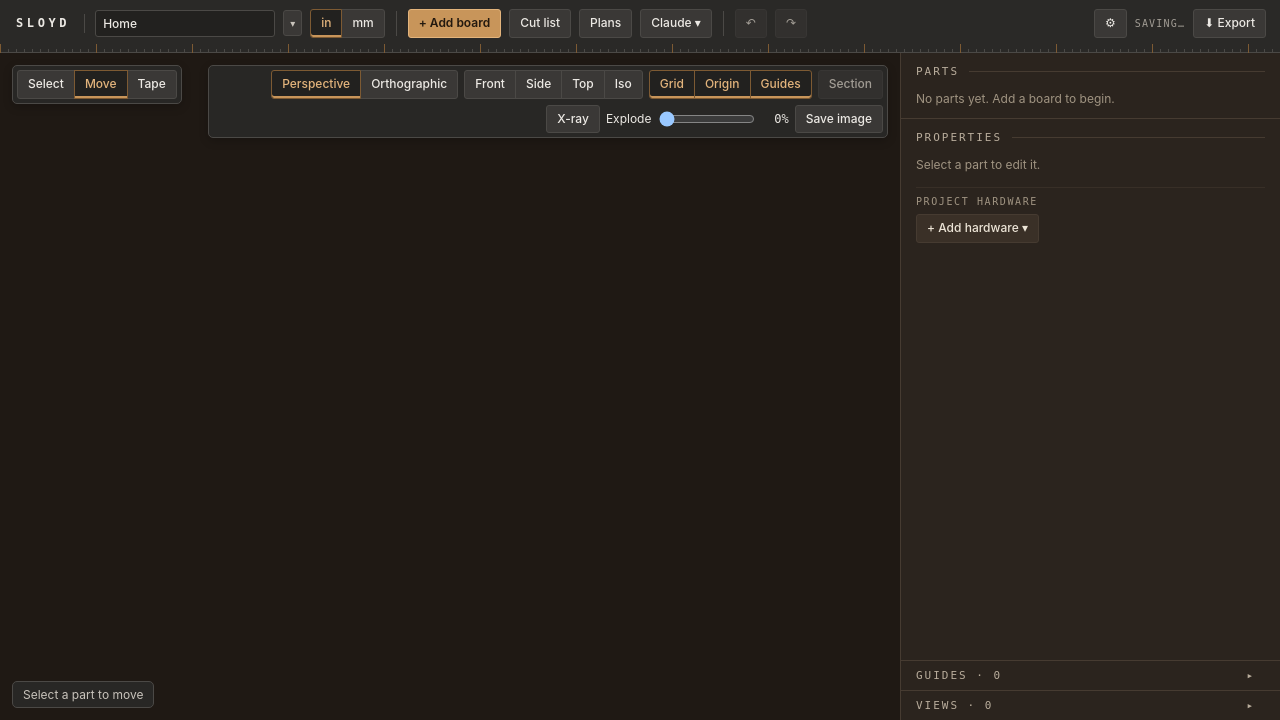
Test: App project switching › a project that cannot be opened stays put and says why in the menu
The width and height of the screenshot is (1280, 720).
What coordinates should you click on to do the following:
click the button named "Open project menu"
I would click on:
 (293, 23)
Its box is [283,10,302,36].
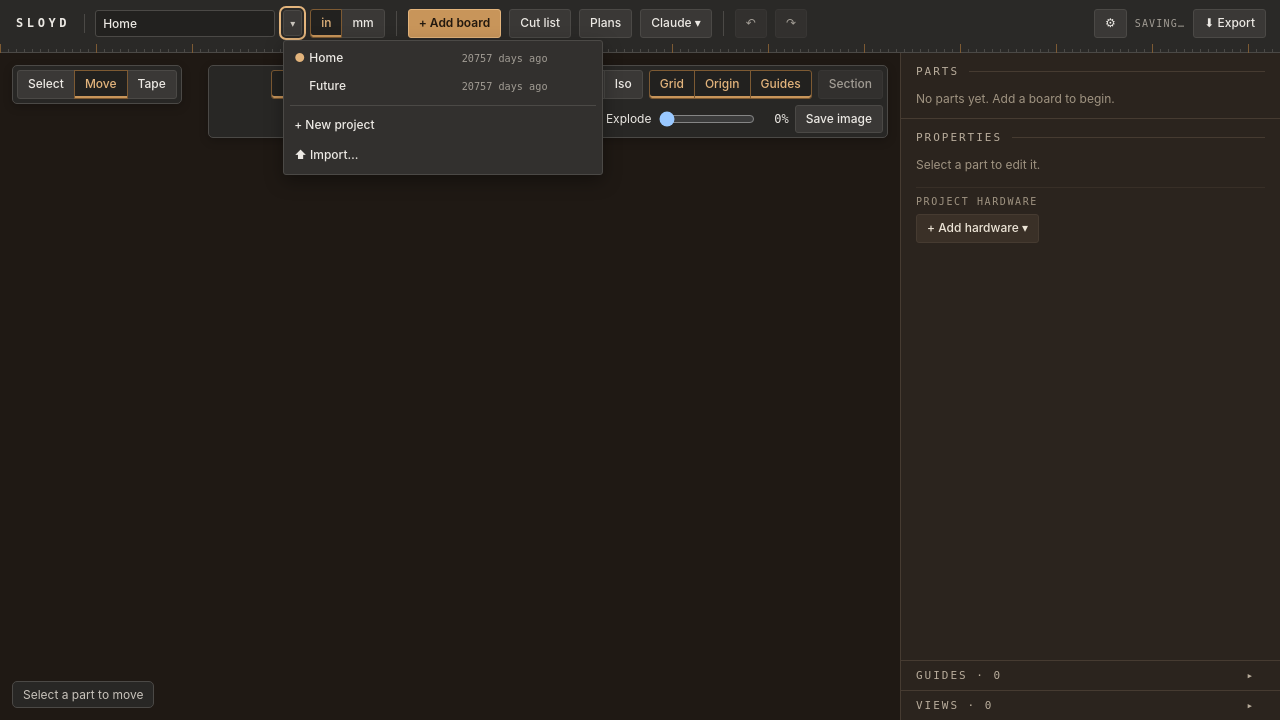
What coordinates should you click on to do the following:
click the button "Future 20757 days ago"
I would click on:
 (328, 86)
Its box is [288,73,554,100].
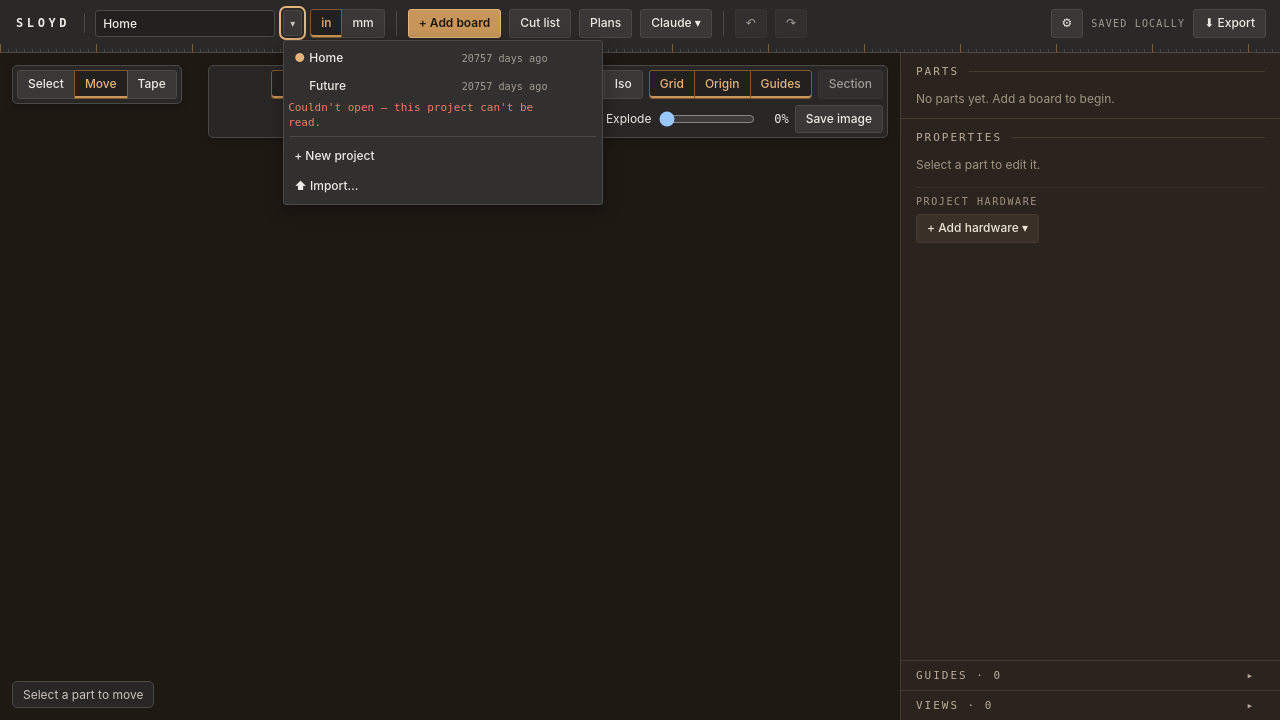
Expected: the text "Home" is shown, [309,50,343,65]
Expected: the text "Couldn't open — this project can't be read." is shown, [288,100,548,131]
